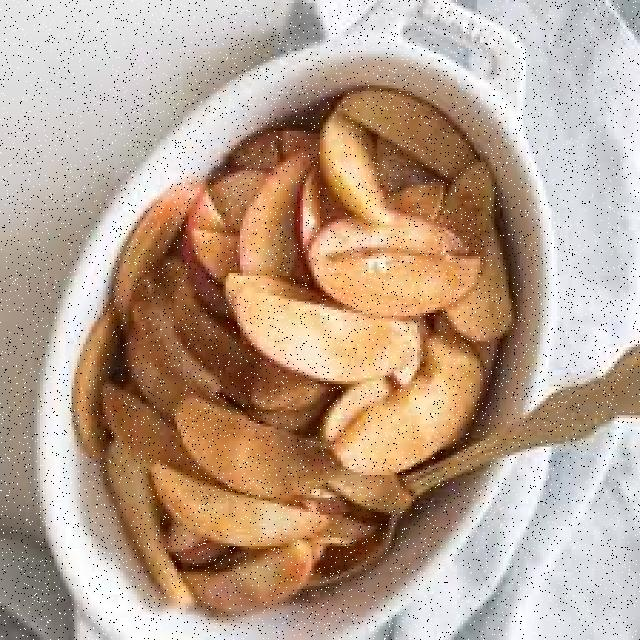Apple: (344, 353, 481, 482), (110, 170, 207, 326), (165, 412, 332, 500), (222, 309, 403, 382), (307, 249, 483, 311), (181, 537, 314, 616), (358, 100, 475, 182), (238, 150, 300, 274), (321, 108, 380, 215), (310, 212, 481, 248)
